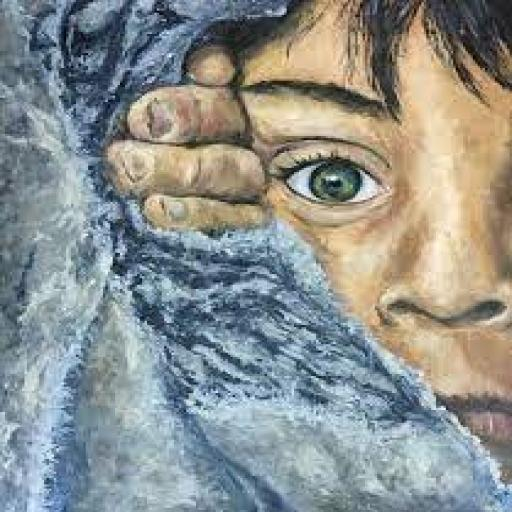person: (111, 0, 512, 471)
